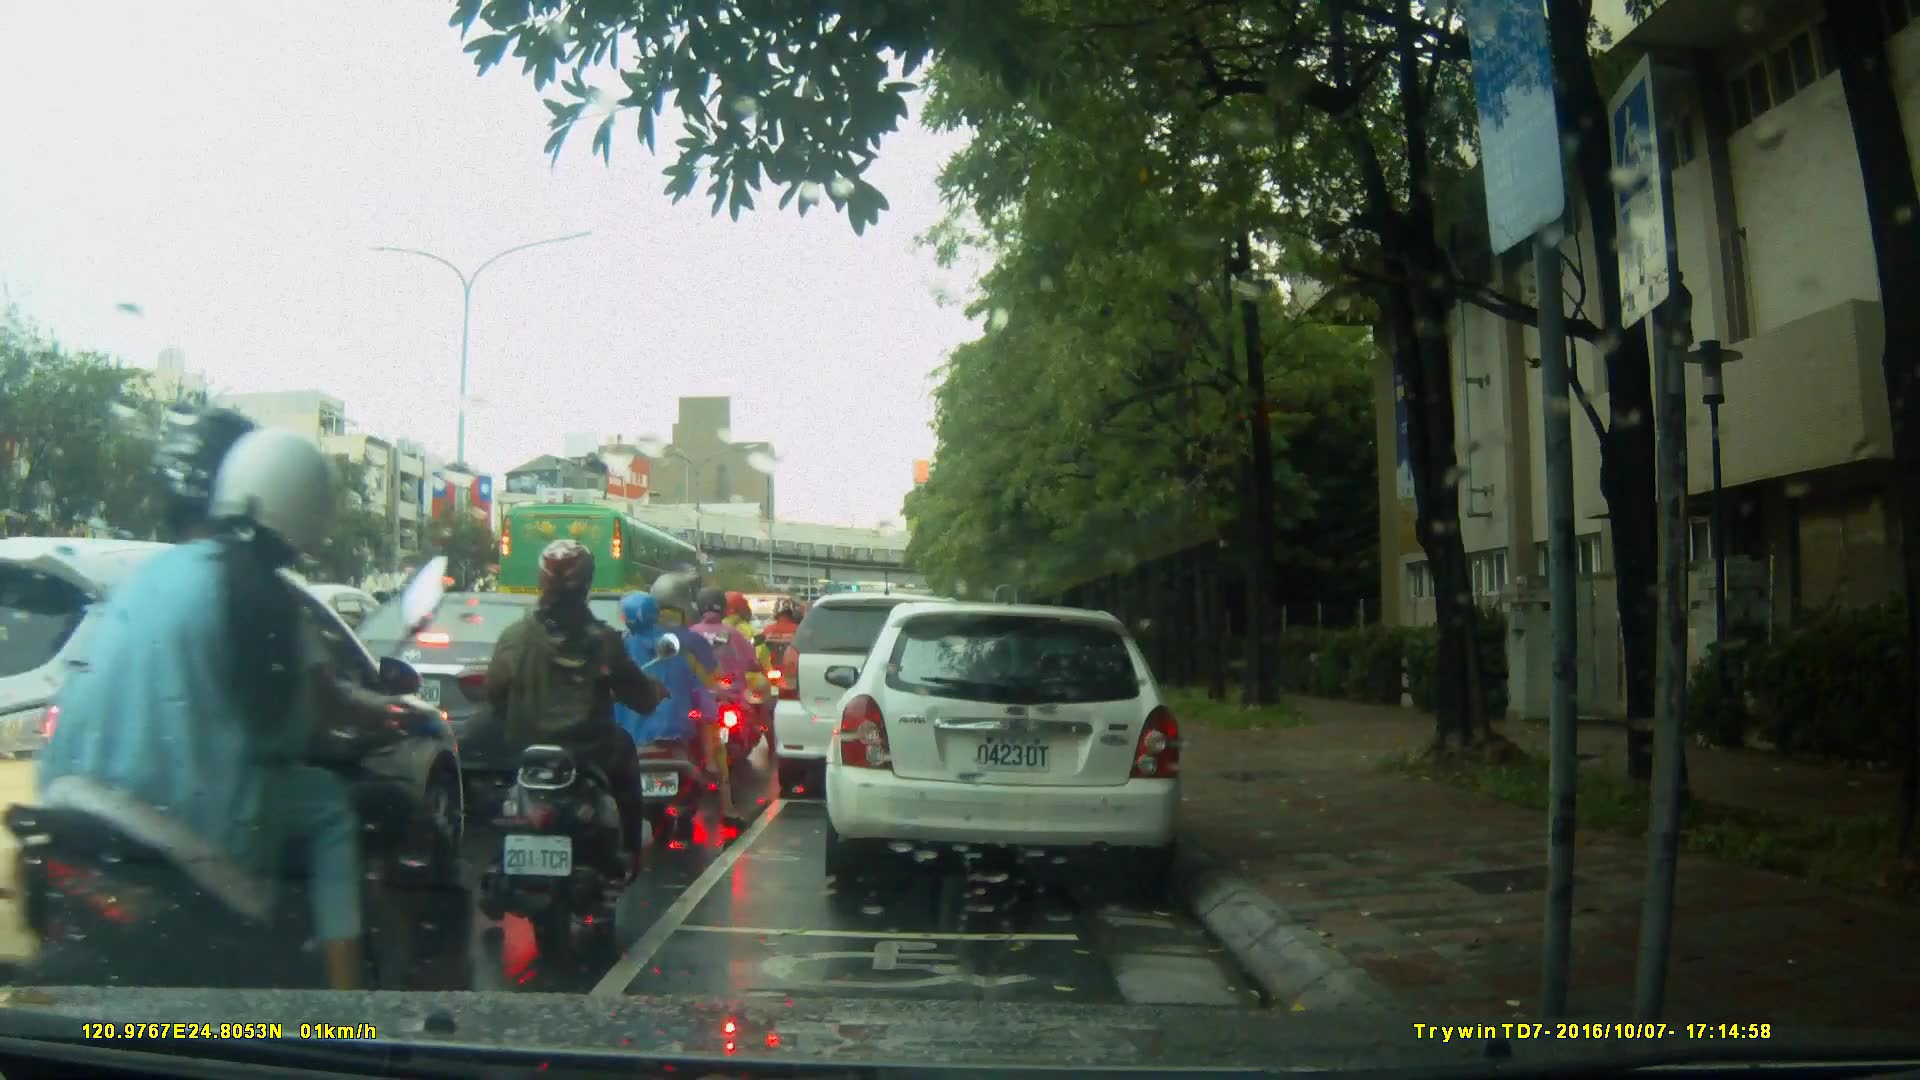rider: (34, 407, 489, 1052), (479, 534, 673, 945), (616, 578, 716, 830), (681, 590, 753, 777), (718, 593, 787, 767), (763, 596, 809, 734)
vehicle: (4, 535, 467, 988), (831, 592, 1196, 897), (312, 589, 629, 776), (771, 590, 999, 804), (501, 503, 709, 636)
